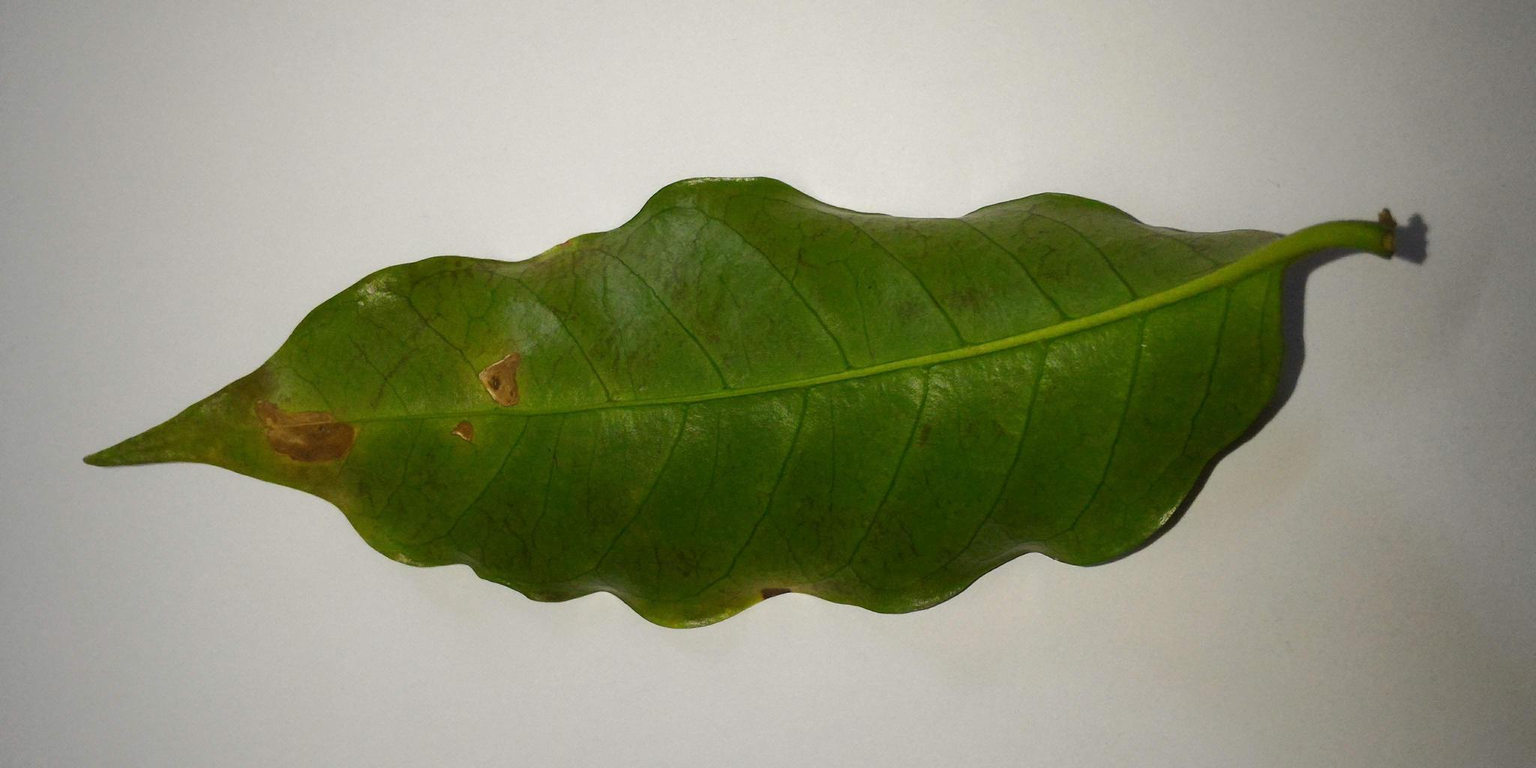Miner: (246, 394, 365, 472), (472, 347, 535, 412)
